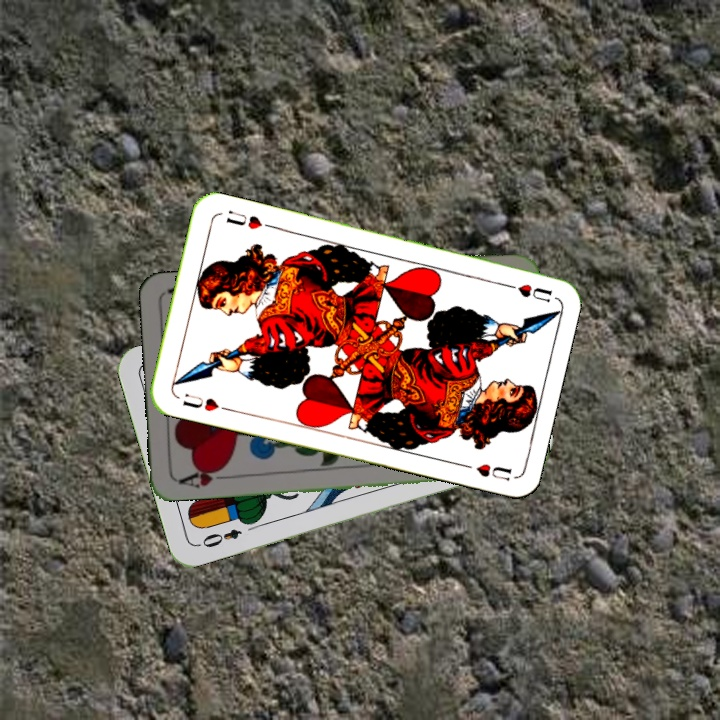EO: (193, 525, 244, 550)
HA: (175, 462, 234, 491)
HU: (498, 279, 555, 305), (178, 389, 232, 414)
